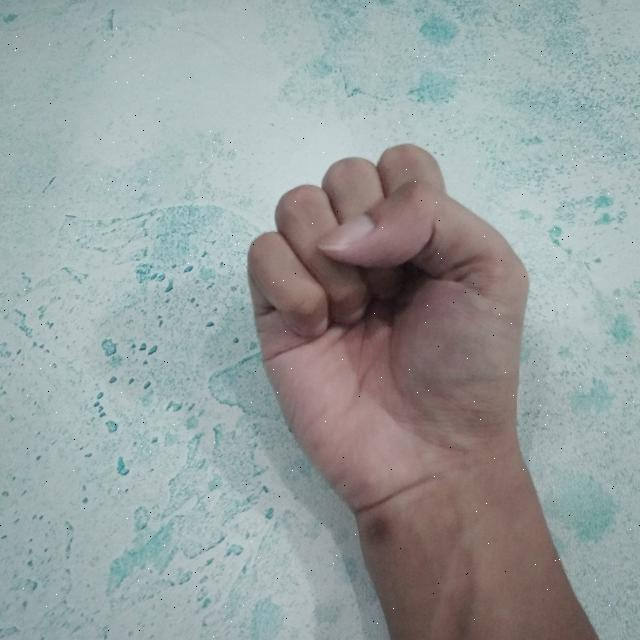S: (238, 132, 603, 640)
